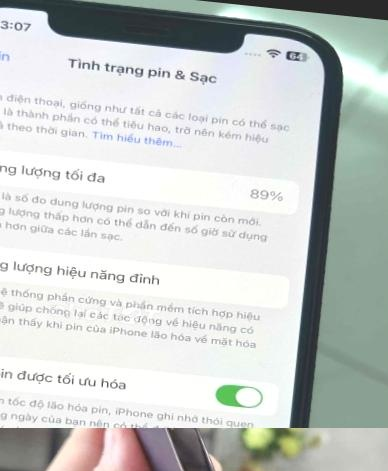screen_defect: (306, 225, 388, 471)
